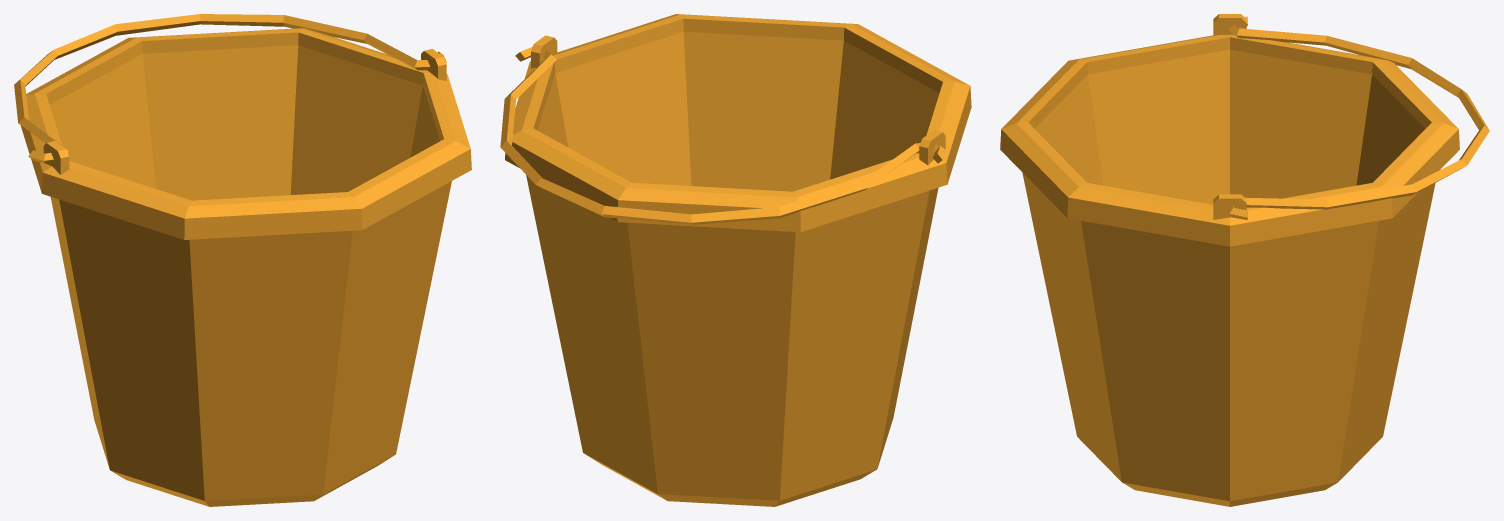
Rendered from SM_Bucket_Plastic_A.fbx.
3 views of the same model, side by side, from view 1: azimuth 30°, elevation 25°; view 2: azimuth 150°, elevation 25°; view 3: azimuth 270°, elevation 25° (orthographic). The views are drawn at different scales.
Visible parts, largest first — view 1: bucket-plastic-a-base, bucket-plastic-a-handle; view 2: bucket-plastic-a-base, bucket-plastic-a-handle; view 3: bucket-plastic-a-base, bucket-plastic-a-handle.
Part boxes in pixels (x1,y1,x2,y2): bucket-plastic-a-base: (20,28,471,506); bucket-plastic-a-handle: (14,14,446,163); bucket-plastic-a-base: (505,14,971,506); bucket-plastic-a-handle: (500,47,946,224); bucket-plastic-a-base: (1000,14,1459,506); bucket-plastic-a-handle: (1227,16,1489,219).
Bounding box in the file's own units: 0.3304 × 0.2677 × 0.3443.
